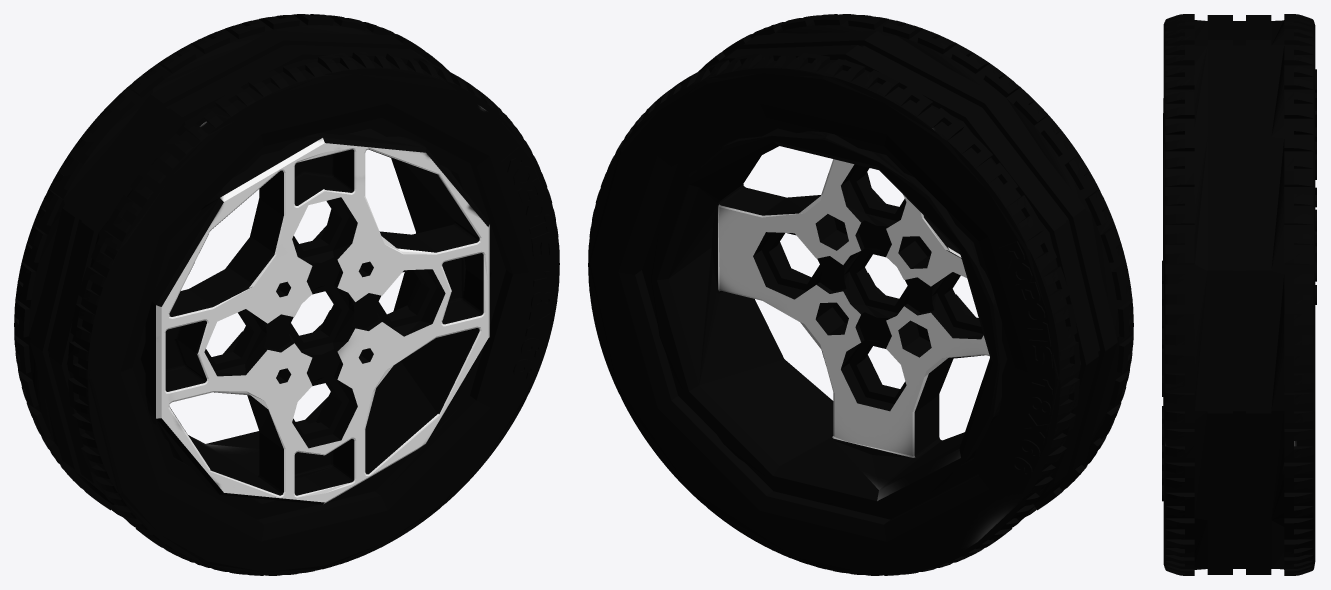
File: left_tire_text.dae
3 renders of one model, left to right at view 1: azimuth 30°, elevation 25°; view 2: azimuth 150°, elevation 25°; view 3: azimuth 270°, elevation 25°, orthographic.
Visible parts, largest first — view 1: left_tire; view 2: left_tire; view 3: left_tire.
Boxes of the visible parts, left/top/right/bottom form: left_tire: left=14, top=14, right=559, bottom=575; left_tire: left=588, top=14, right=1133, bottom=575; left_tire: left=1162, top=14, right=1316, bottom=575.
Bounding box in the file's own units: 0.066 × 0.0182 × 0.066.
Materials: 1 (1 with a texture image).
